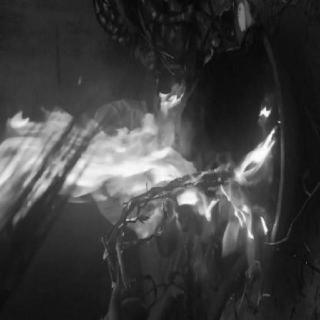Fire: (1, 69, 288, 268)
